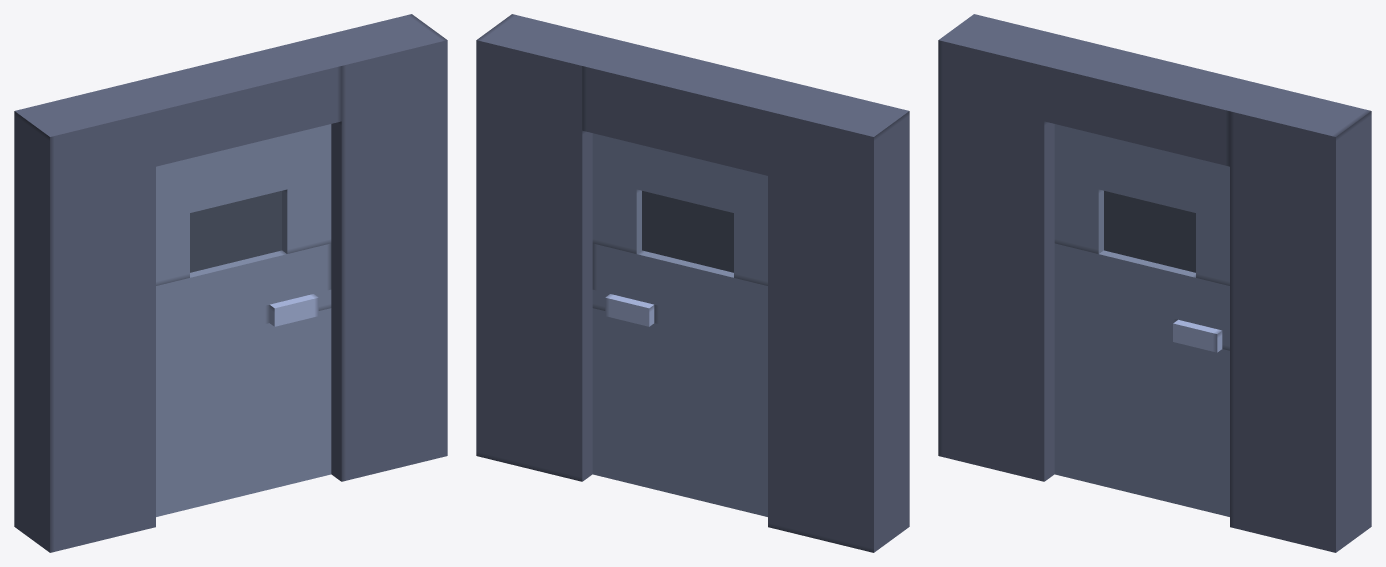
File: dzwi_do_wychodzenia.dae
3 renders of one model, left to right at view 1: azimuth 30°, elevation 25°; view 2: azimuth 150°, elevation 25°; view 3: azimuth 330°, elevation 25°, orthographic.
Visible parts, largest first — view 1: Content; view 2: Content; view 3: Content.
Boxes of the visible parts, left/top/right/bottom form: Content: left=14, top=14, right=447, bottom=552; Content: left=476, top=14, right=909, bottom=552; Content: left=938, top=14, right=1371, bottom=552.
Size of the model in its own units: 45 by 45 by 7.
Materials: 1 (1 with a texture image).
